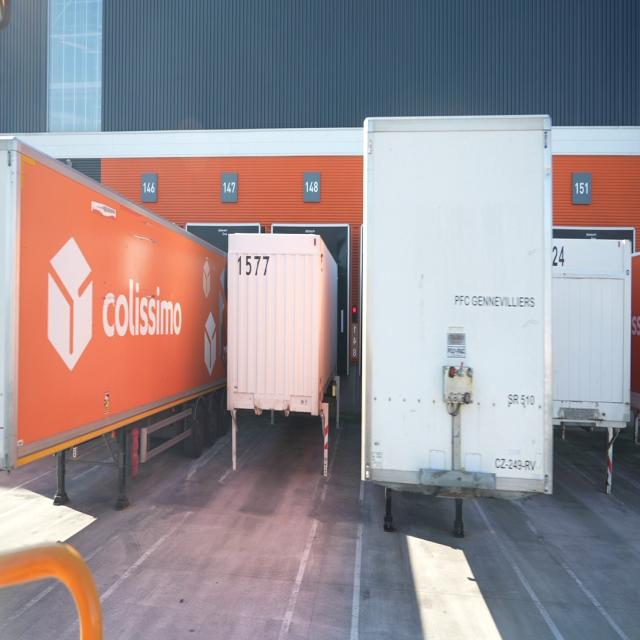Code: (233, 252, 274, 282)
